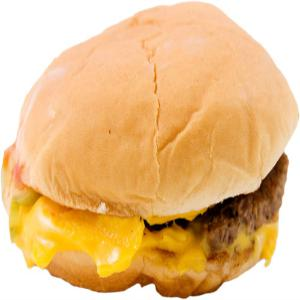cheeseburger: (1, 4, 295, 296)
